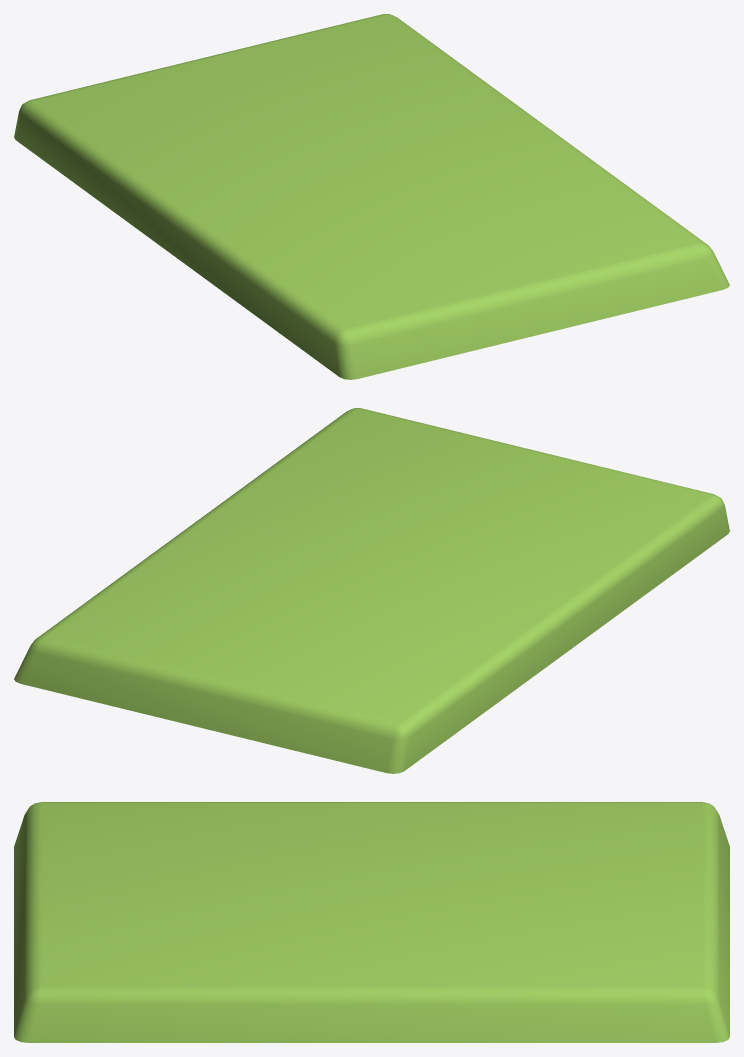
Rendered from tapa_banco.fbx.
3 views of the same model, one above another, from view 1: azimuth 30°, elevation 25°; view 2: azimuth 150°, elevation 25°; view 3: azimuth 270°, elevation 25° (orthographic). The views are drawn at different scales.
Visible parts, largest first — view 1: tapa_banco; view 2: tapa_banco; view 3: tapa_banco.
Part boxes in pixels (x1,y1,x2,y2): tapa_banco: [14, 14, 729, 379]; tapa_banco: [14, 408, 729, 773]; tapa_banco: [14, 802, 729, 1042].
Size of the model in its own units: 180 by 18.19 by 271.
